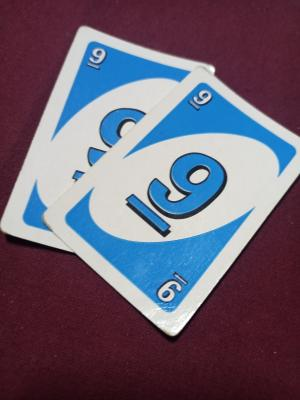blue: (144, 104, 226, 296), (72, 55, 153, 135)
num_9: (186, 86, 215, 115), (85, 44, 113, 74)
